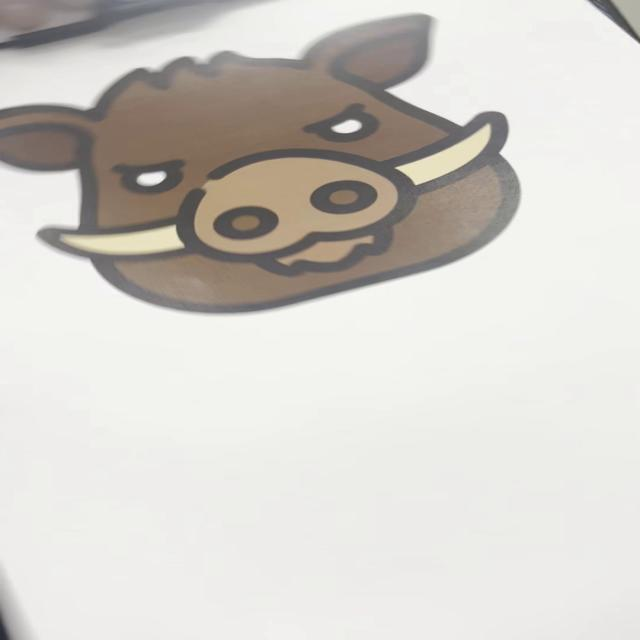animal: (1, 14, 570, 317)
